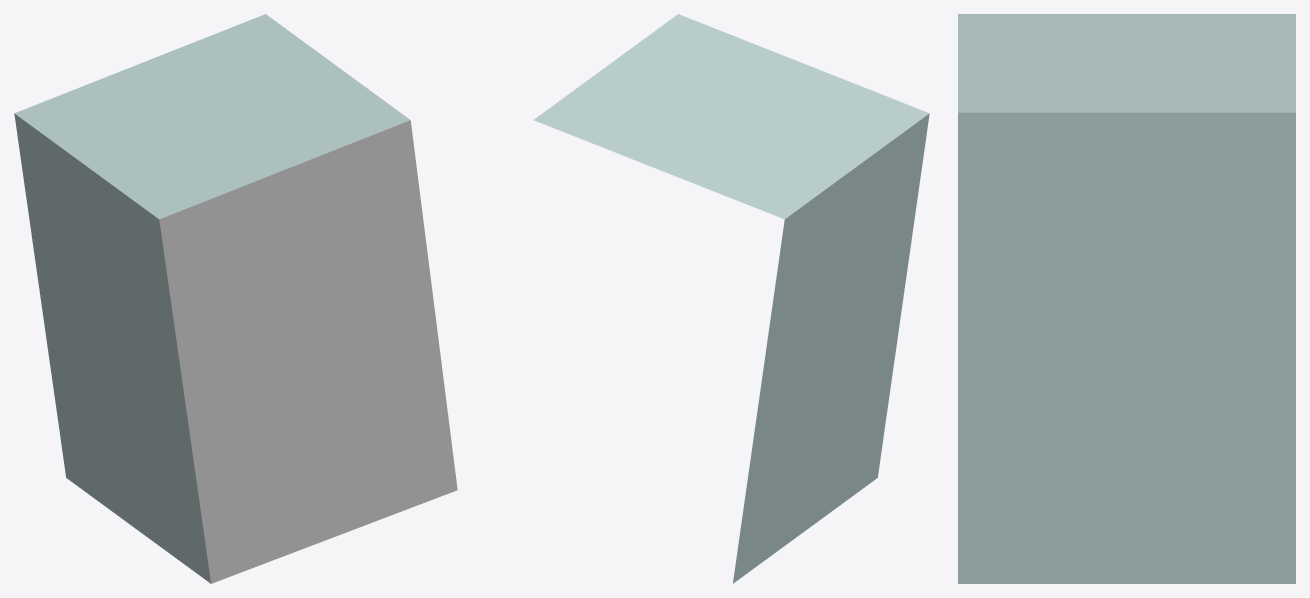
3 renders of one model, left to right at view 1: azimuth 30°, elevation 25°; view 2: azimuth 150°, elevation 25°; view 3: azimuth 270°, elevation 25°, orthographic. The views are drawn at different scales.
Visible parts, largest first — view 1: 0_3_2_2_1_2_2_3_1; view 2: 0_3_2_2_1_2_2_3_1; view 3: 0_3_2_2_1_2_2_3_1.
Part boxes in pixels (x1,y1,x2,y2): 0_3_2_2_1_2_2_3_1: [14, 14, 457, 583]; 0_3_2_2_1_2_2_3_1: [533, 14, 929, 583]; 0_3_2_2_1_2_2_3_1: [958, 14, 1295, 583].
Size of the model in its own units: 3.57 by 4.74 by 3.
